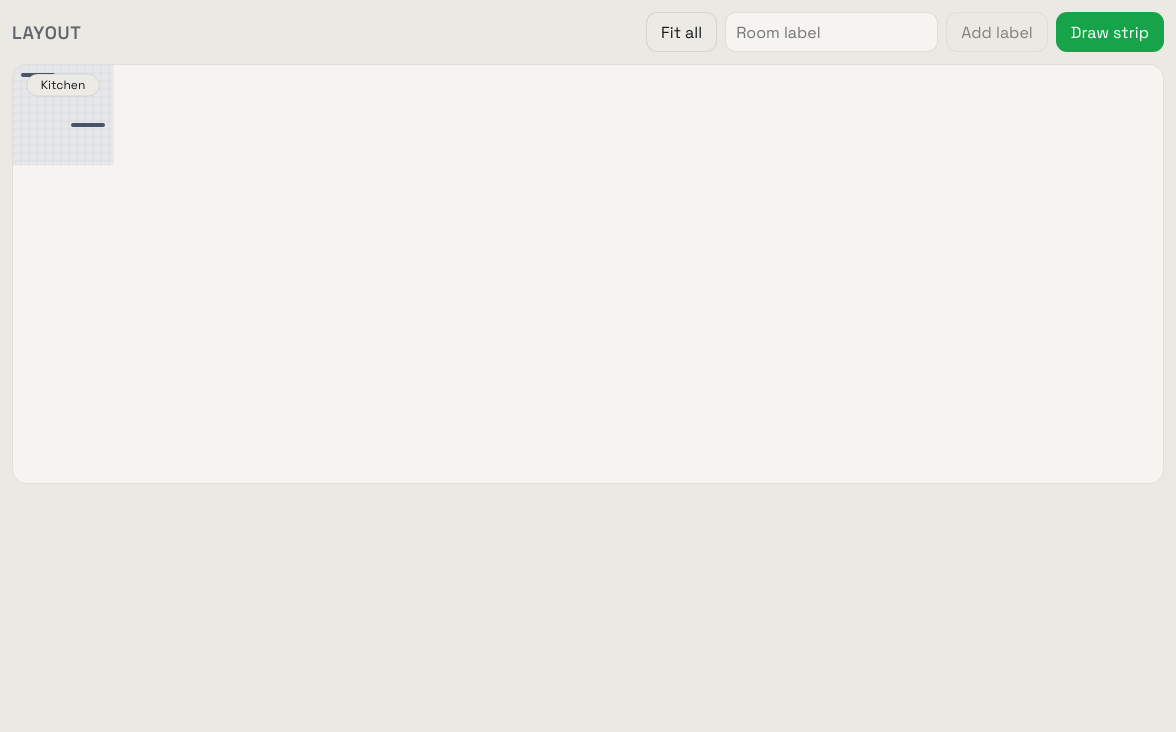
it: draw flow › the strip-save controller dropdown prefers the live device-reported name over the stored controller name
Click the button "Draw strip". click: [1110, 32]
box: [1056,12,1164,52]
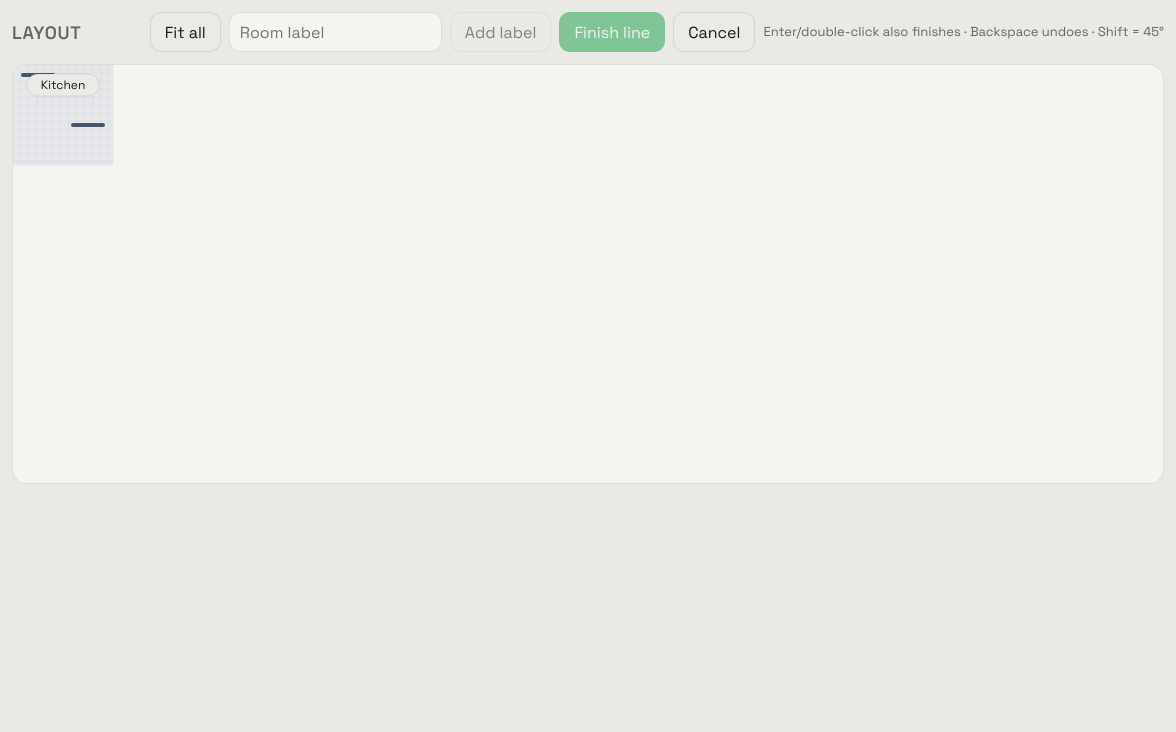
Click the icon with test id "layout-canvas". click: [588, 140]
box: [13,65,1163,215]
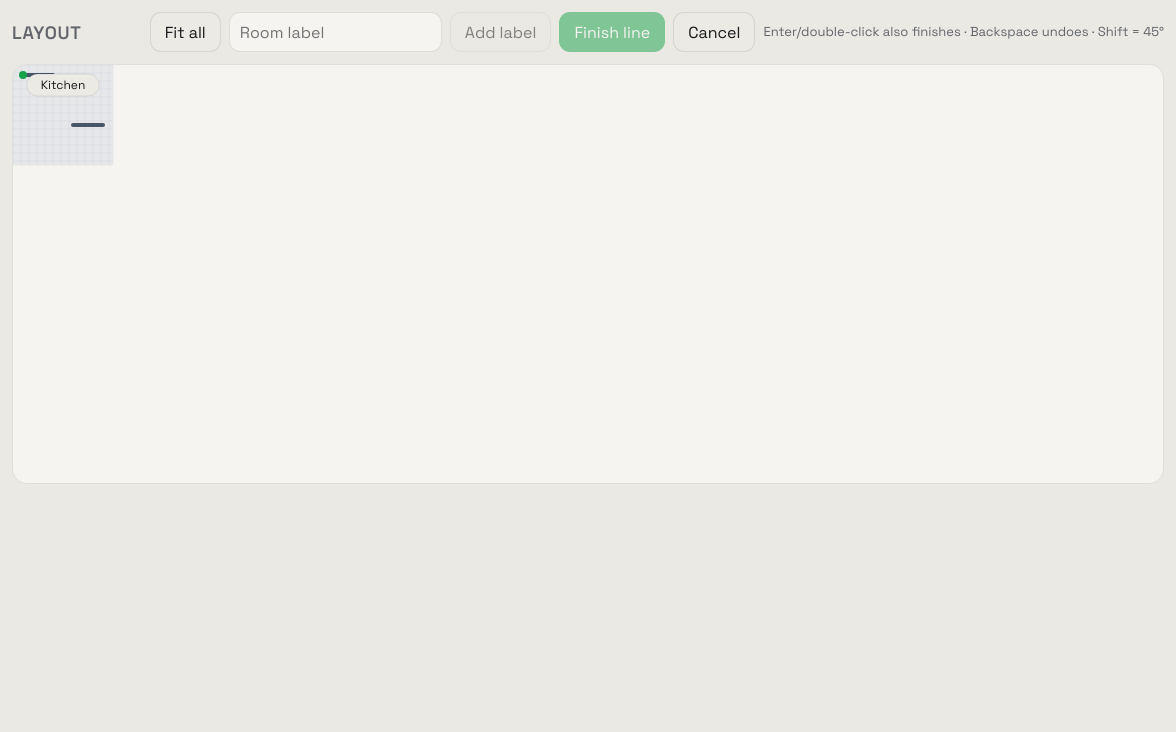
Click the icon with test id "layout-canvas". click: [588, 140]
box: [13,65,1163,215]
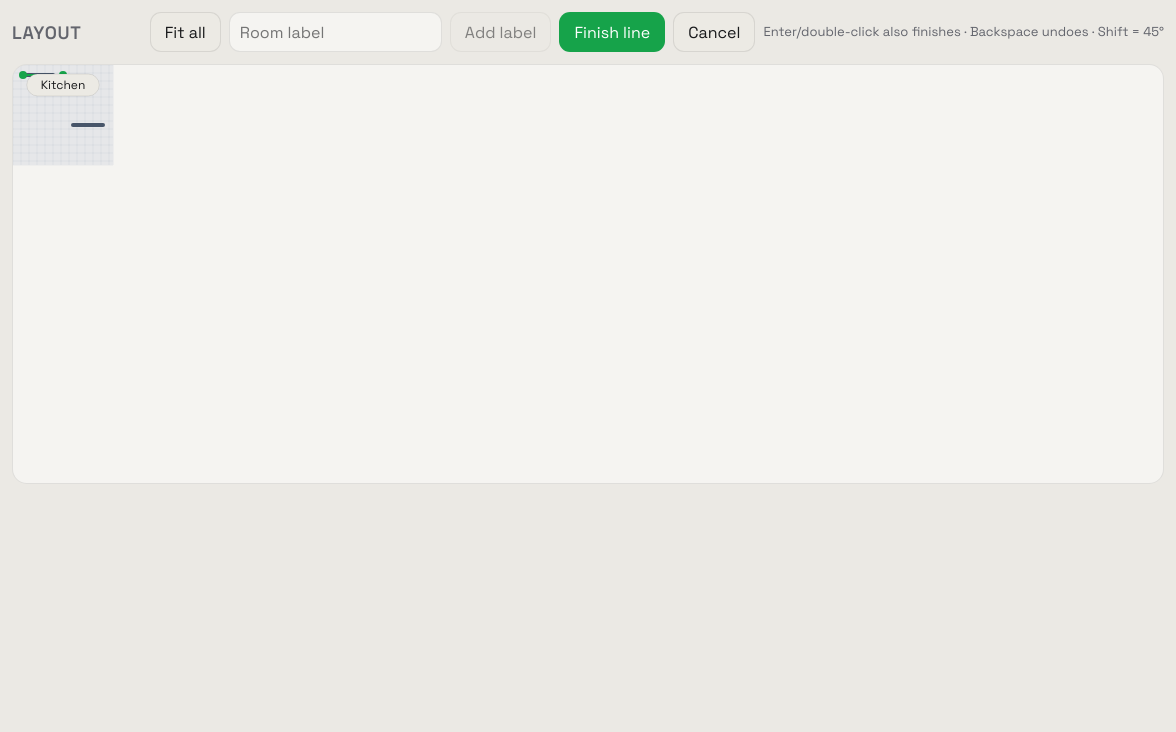
Press Enter
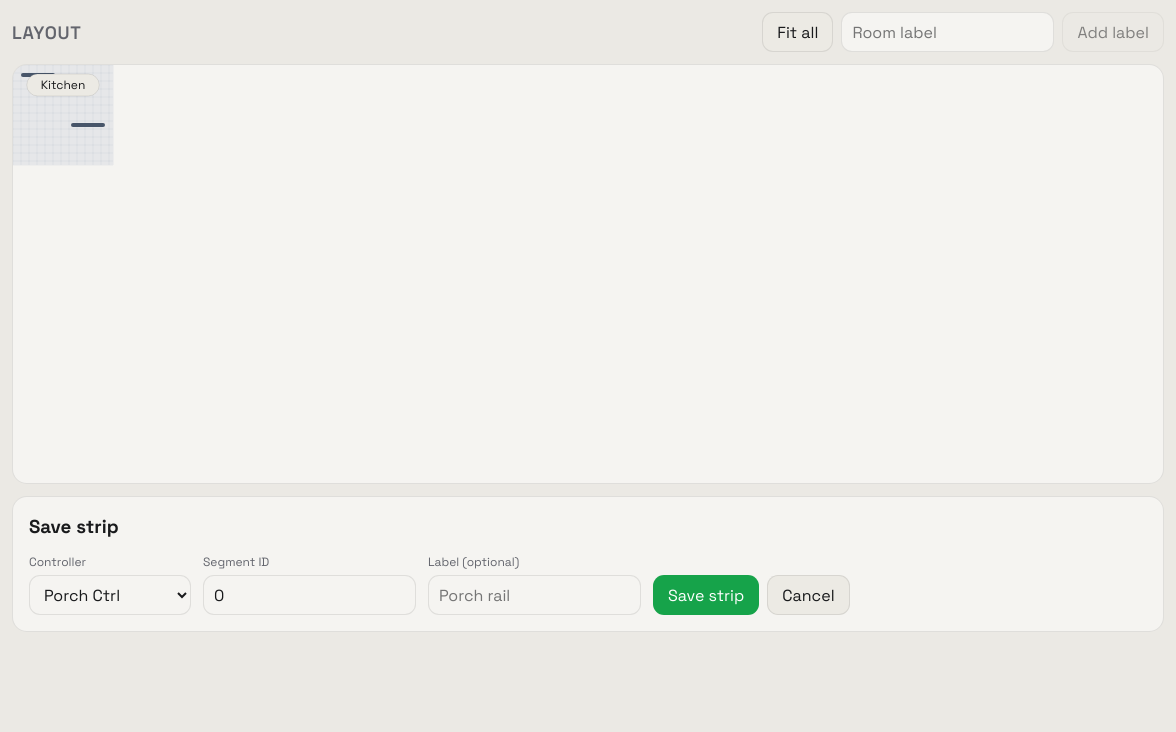
Check: the element with test id "strip-save-panel" is shown, box [12,496,1164,632]
